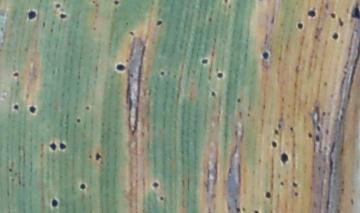tarspot: (350, 1, 360, 19), (26, 9, 37, 20), (280, 152, 289, 165), (116, 62, 126, 72), (261, 50, 270, 61), (307, 8, 316, 18), (28, 105, 36, 114), (49, 142, 57, 151), (94, 152, 103, 160), (200, 57, 209, 65), (216, 70, 224, 79), (296, 22, 304, 31), (338, 17, 345, 27), (51, 197, 58, 207), (269, 14, 276, 24), (155, 19, 163, 27), (209, 89, 217, 97), (58, 12, 67, 19), (58, 143, 67, 150), (128, 28, 135, 37), (270, 139, 277, 148), (151, 182, 160, 189), (79, 182, 86, 191), (324, 1, 330, 11), (12, 103, 20, 110), (265, 191, 272, 199), (279, 179, 286, 187), (47, 26, 55, 33), (307, 131, 313, 140), (315, 123, 321, 132), (349, 197, 355, 206), (237, 109, 243, 118), (75, 117, 82, 124), (9, 176, 16, 183), (54, 3, 62, 9), (330, 11, 336, 19), (333, 32, 339, 40), (157, 195, 165, 201), (316, 164, 322, 172), (289, 123, 294, 132), (12, 71, 19, 77), (236, 96, 242, 103), (293, 191, 299, 198), (292, 182, 299, 188), (7, 166, 14, 172), (40, 20, 46, 27), (313, 34, 319, 41), (279, 97, 286, 103), (274, 128, 279, 136), (315, 134, 320, 142), (25, 92, 30, 100), (160, 70, 166, 76), (322, 81, 328, 87), (23, 47, 29, 53), (85, 104, 90, 111), (113, 1, 120, 6), (208, 16, 213, 23), (88, 153, 93, 159), (236, 207, 241, 213), (90, 1, 97, 5), (1, 25, 5, 32), (321, 110, 326, 115), (253, 209, 259, 213), (247, 112, 251, 118), (223, 1, 229, 4), (326, 129, 329, 135)
